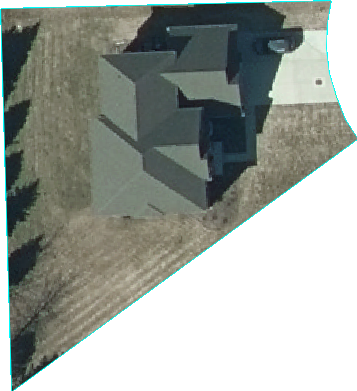house: (88, 21, 246, 219)
